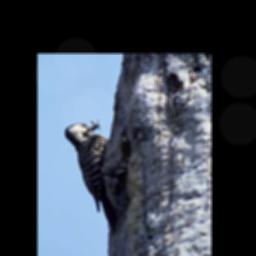Woodpecker: (64, 117, 131, 236)
